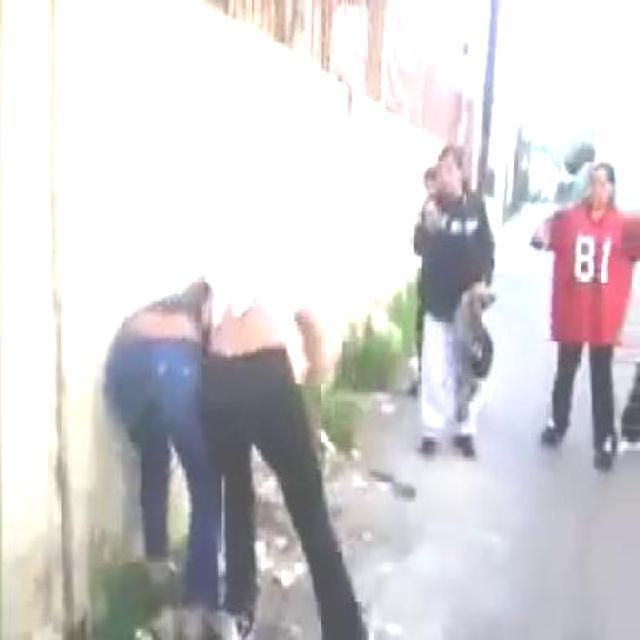fight: (108, 242, 344, 558)
non-fight: (532, 159, 640, 396), (408, 148, 494, 401)
